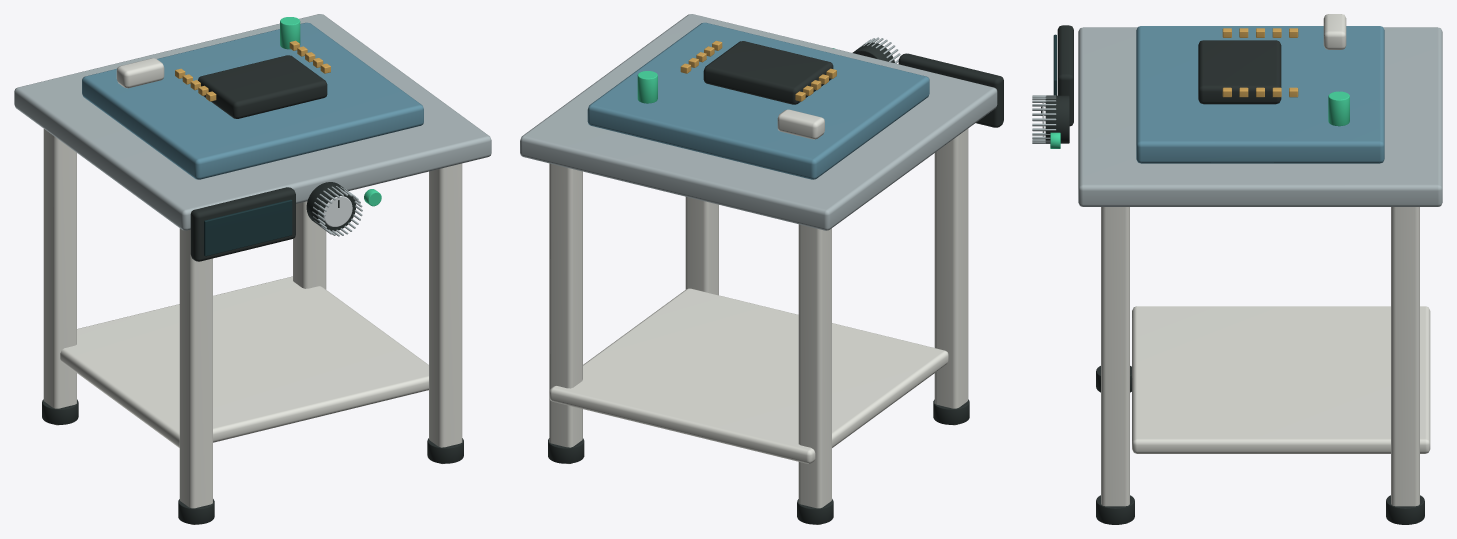
The model's file is socket.glb.
3 views of the same model, side by side, from view 1: azimuth 30°, elevation 25°; view 2: azimuth 150°, elevation 25°; view 3: azimuth 270°, elevation 25° (orthographic). The views are drawn at different scales.
Visible parts, largest first — view 1: Equipment_socket_Ceramic ivory, Equipment_socket_Brushed stainless, Equipment_socket_Process ceramic, Equipment_socket_Knurled graphite, LCD.023, Knob_main.023, Equipment_socket_Gold contacts, Equipment_socket_Machined aluminium, Indicator_Status green; view 2: Equipment_socket_Ceramic ivory, Equipment_socket_Brushed stainless, Equipment_socket_Process ceramic, Equipment_socket_Knurled graphite, Equipment_socket_Gold contacts, Indicator_Status green; view 3: Equipment_socket_Ceramic ivory, Equipment_socket_Brushed stainless, Equipment_socket_Process ceramic, Equipment_socket_Knurled graphite, Knob_main.023, Equipment_socket_Gold contacts, Indicator_Status green.
Boxes of the visible parts, bbox=[...] form: Equipment_socket_Ceramic ivory: bbox=[43, 58, 462, 524]; Equipment_socket_Brushed stainless: bbox=[14, 14, 491, 236]; Equipment_socket_Process ceramic: bbox=[82, 22, 423, 179]; Equipment_socket_Knurled graphite: bbox=[42, 55, 463, 524]; LCD.023: bbox=[204, 199, 292, 256]; Knob_main.023: bbox=[306, 182, 355, 231]; Equipment_socket_Gold contacts: bbox=[175, 40, 330, 101]; Equipment_socket_Machined aluminium: bbox=[323, 196, 352, 226]; Indicator_Status green: bbox=[280, 17, 300, 49]; Equipment_socket_Ceramic ivory: bbox=[549, 109, 968, 524]; Equipment_socket_Brushed stainless: bbox=[520, 14, 997, 230]; Equipment_socket_Process ceramic: bbox=[587, 22, 929, 179]; Equipment_socket_Knurled graphite: bbox=[548, 41, 1003, 524]; Equipment_socket_Gold contacts: bbox=[680, 40, 836, 101]; Indicator_Status green: bbox=[637, 71, 657, 103]; Equipment_socket_Ceramic ivory: bbox=[1101, 14, 1430, 523]; Equipment_socket_Brushed stainless: bbox=[1032, 27, 1442, 206]; Equipment_socket_Process ceramic: bbox=[1136, 26, 1384, 163]; Equipment_socket_Knurled graphite: bbox=[1041, 25, 1424, 524]; Knob_main.023: bbox=[1045, 95, 1069, 143]; Equipment_socket_Gold contacts: bbox=[1222, 28, 1298, 97]; Indicator_Status green: bbox=[1328, 91, 1349, 126].
Bounding box in the file's own units: 0.92 × 1.06 × 0.991.
